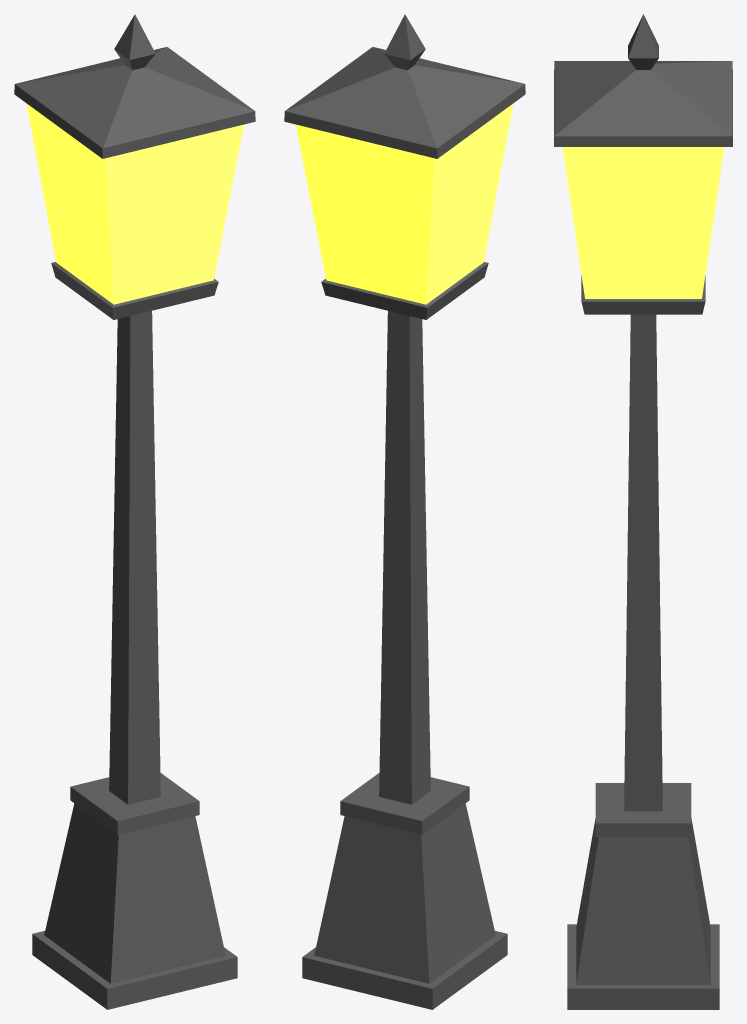
The model's file is LampPost.fbx.
3 views of the same model, side by side, from view 1: azimuth 30°, elevation 25°; view 2: azimuth 150°, elevation 25°; view 3: azimuth 270°, elevation 25° (orthographic).
Visible parts, largest first — view 1: LampPost; view 2: LampPost; view 3: LampPost.
Part boxes in pixels (x1,y1,x2,y2): LampPost: [14, 14, 255, 1009]; LampPost: [284, 14, 525, 1009]; LampPost: [554, 14, 732, 1009].
Bounding box in the file's own units: 39.57 × 235 × 39.57.
